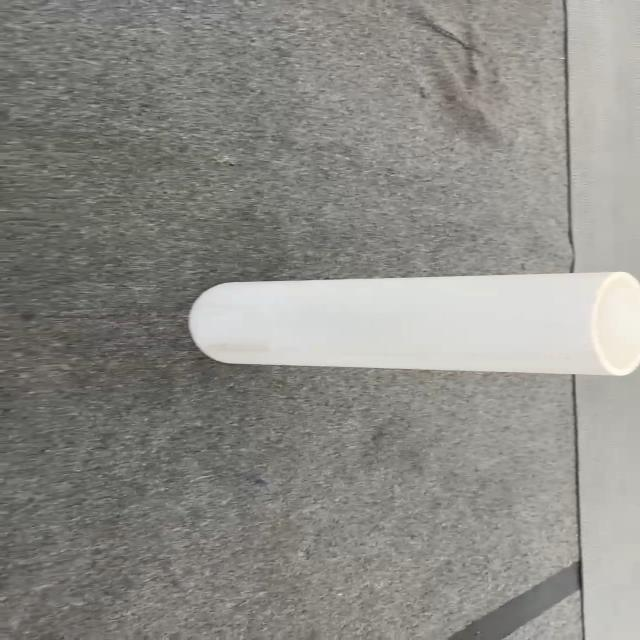coral: (187, 270, 638, 376)
